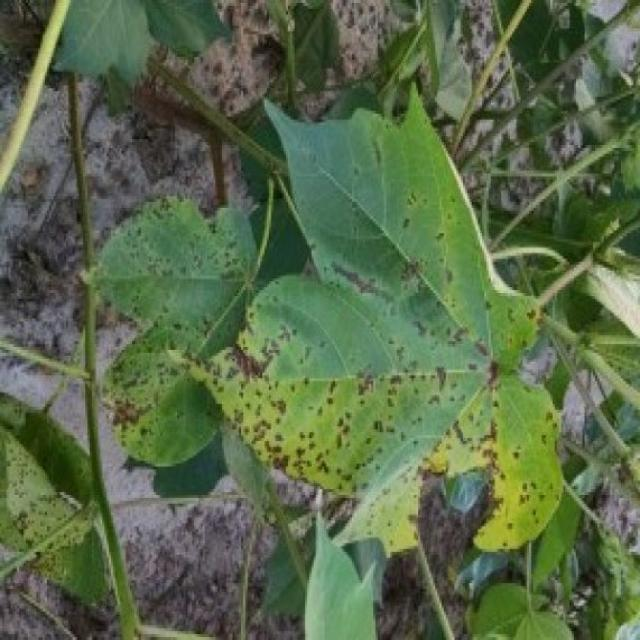Bacterial Blight: (240, 287, 446, 494)
